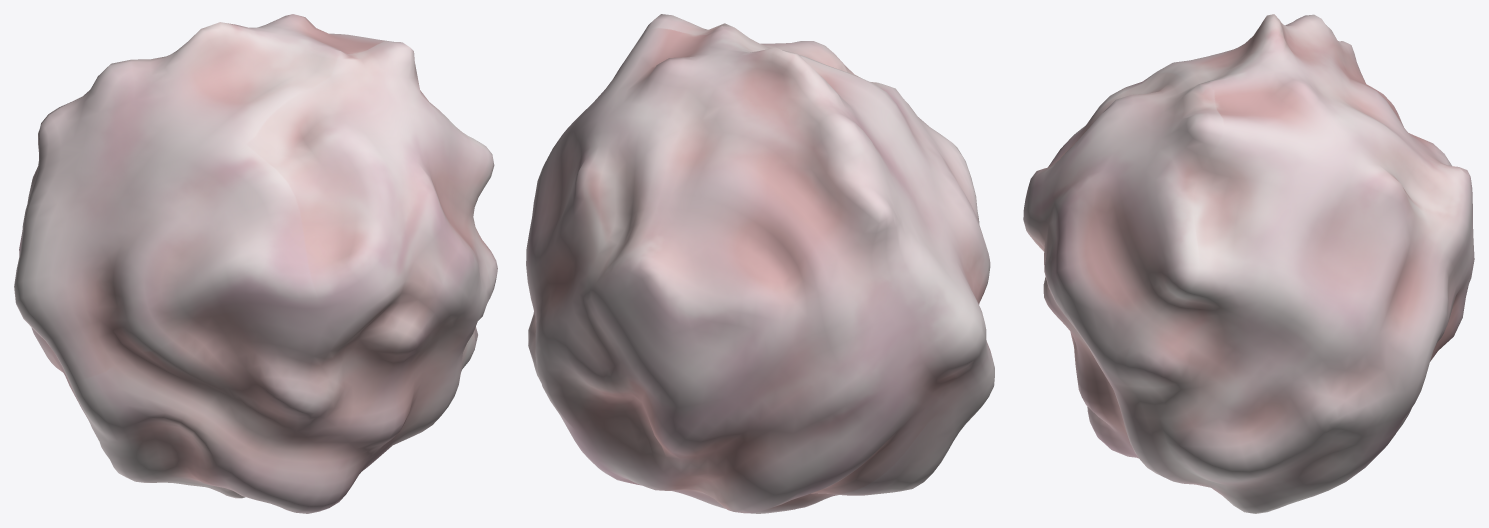
The model's file is cell04.fbx.
The picture shows the model from 3 angles, left to right: view 1: azimuth 30°, elevation 25°; view 2: azimuth 150°, elevation 25°; view 3: azimuth 270°, elevation 25°; orthographic projection. The views are drawn at different scales.
Parts seen in each view (by area): view 1: cell05_whitecell_low:Group62959; view 2: cell05_whitecell_low:Group62959; view 3: cell05_whitecell_low:Group62959.
Part boxes in pixels (box(x1,y1,x2,y2)): cell05_whitecell_low:Group62959: box(14, 14, 497, 513); cell05_whitecell_low:Group62959: box(526, 14, 994, 513); cell05_whitecell_low:Group62959: box(1023, 14, 1474, 513).
Bounding box in the file's own units: 105 × 108 × 99.24.
